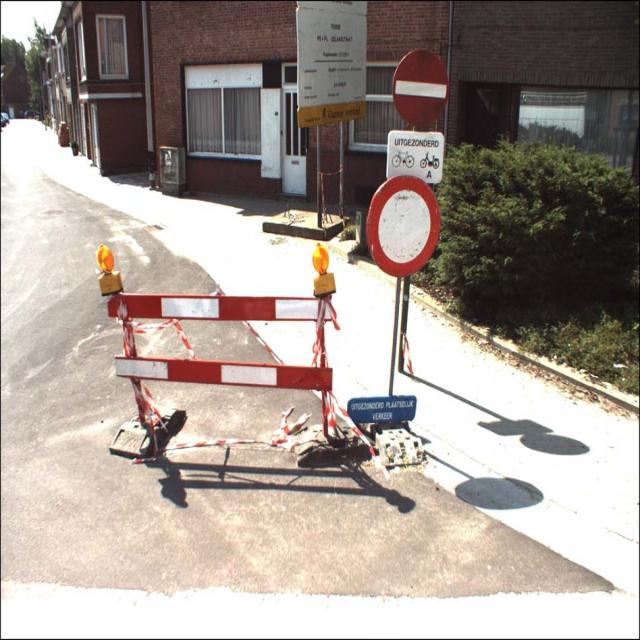girisyok: (392, 49, 449, 128)
